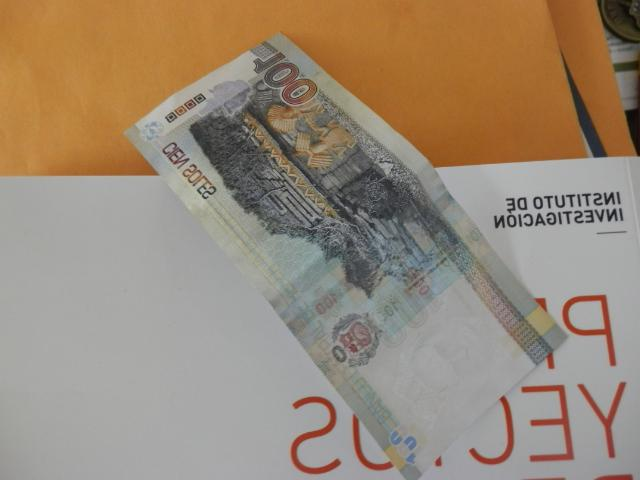B100: (124, 33, 564, 480)
